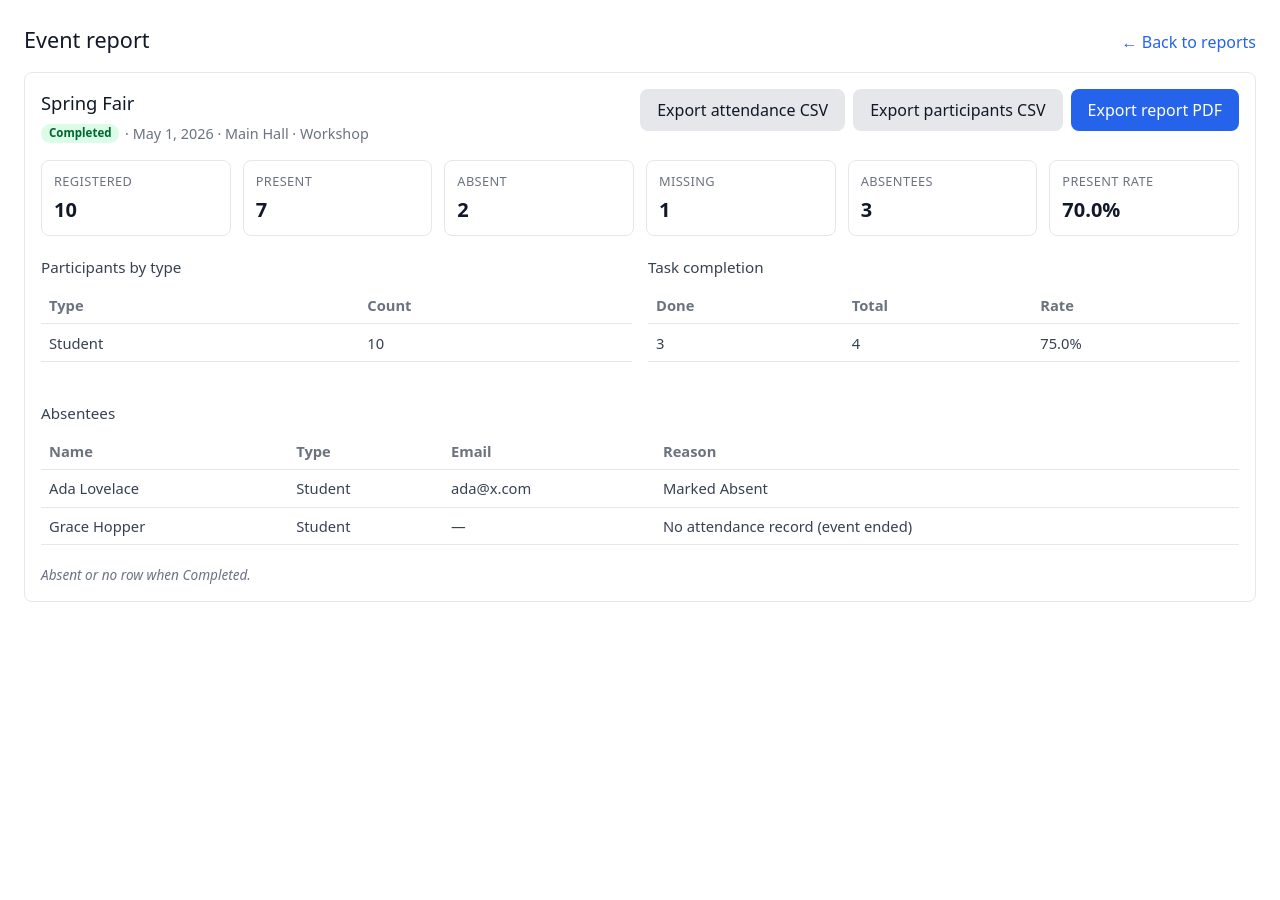
it: EventReportView › exports the attendance CSV through the blob download
Step 1. Click the button with test id "export-attendance-csv" → (743, 110), box x1=640 y1=89 x2=845 y2=131
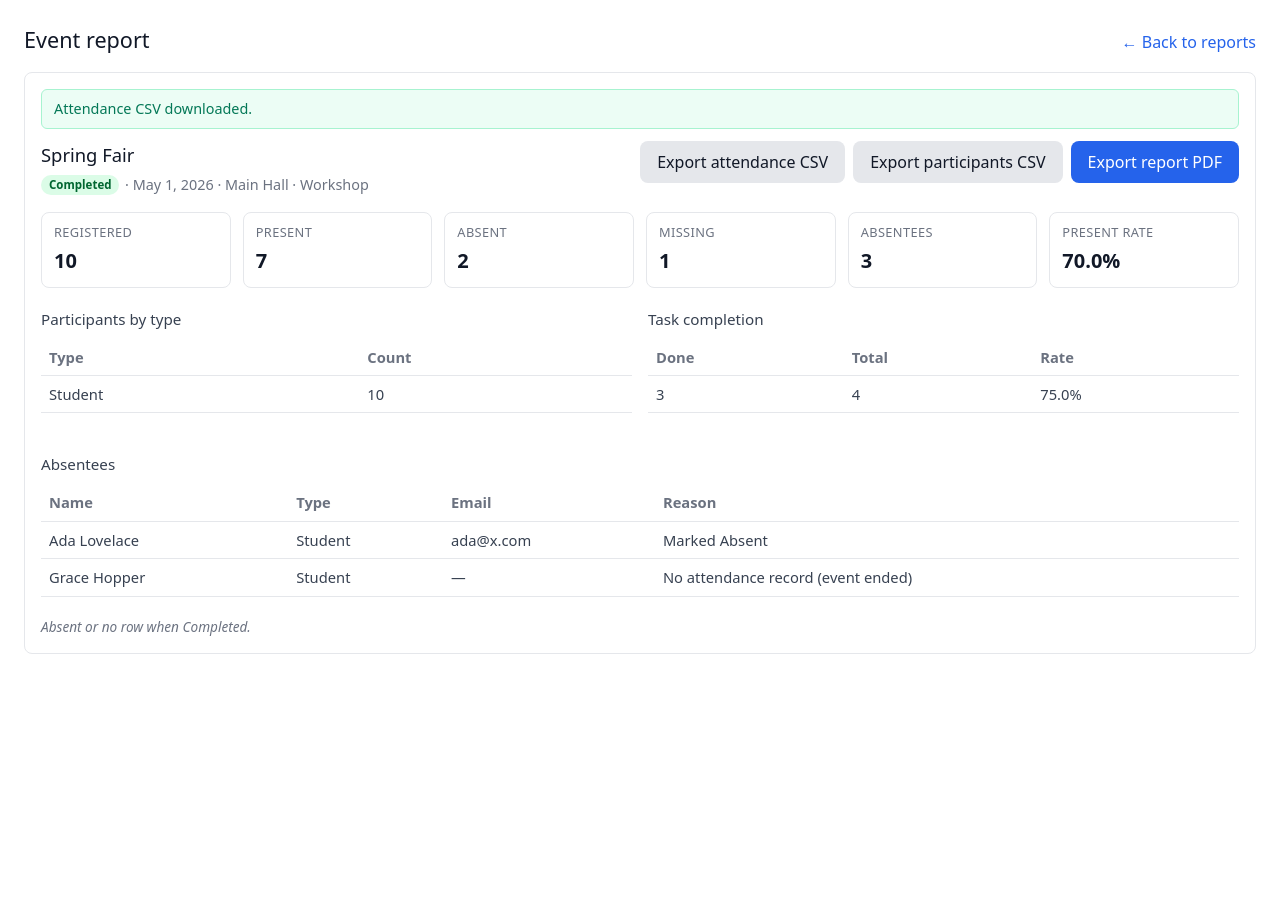
Now the message with test id "event-report-notice" shows "Attendance CSV", box x1=54 y1=99 x2=252 y2=118
